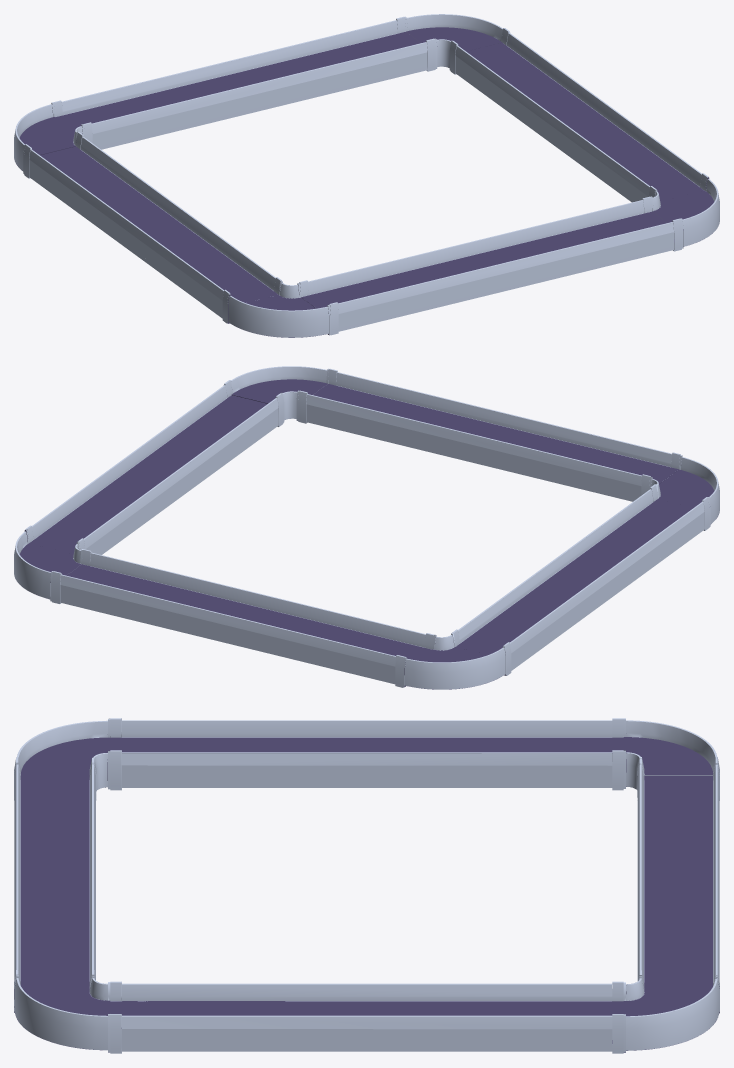
File: conveyor.fbx
3 renders of one model, top to bottom at view 1: azimuth 30°, elevation 25°; view 2: azimuth 150°, elevation 25°; view 3: azimuth 270°, elevation 25°, orthographic. The views are drawn at different scales.
Parts seen in each view (by area): view 1: long conveyor_low.003, long conveyor_low.004, long conveyor_low.002, long conveyor_low.001, turn conveyor_low.002, turn conveyor_low.003, turn conveyor_low.001, turn conveyor_low.004; view 2: long conveyor_low.004, long conveyor_low.003, long conveyor_low.002, long conveyor_low.001, turn conveyor_low.004, turn conveyor_low.001, turn conveyor_low.003, turn conveyor_low.002; view 3: long conveyor_low.001, long conveyor_low.002, long conveyor_low.004, long conveyor_low.003, turn conveyor_low.003, turn conveyor_low.001, turn conveyor_low.004, turn conveyor_low.002.
Part boxes in pixels (left/top/right/bottom): long conveyor_low.003: left=299, top=196, right=681, bottom=335; long conveyor_low.004: left=52, top=16, right=435, bottom=149; long conveyor_low.002: left=24, top=132, right=281, bottom=323; long conveyor_low.001: left=450, top=28, right=707, bottom=202; turn conveyor_low.002: left=227, top=281, right=330, bottom=337; turn conveyor_low.003: left=405, top=14, right=504, bottom=70; turn conveyor_low.001: left=651, top=176, right=719, bottom=248; turn conveyor_low.004: left=14, top=102, right=84, bottom=173; long conveyor_low.004: left=52, top=549, right=434, bottom=687; long conveyor_low.003: left=298, top=368, right=680, bottom=501; long conveyor_low.002: left=452, top=484, right=709, bottom=675; long conveyor_low.001: left=26, top=380, right=283, bottom=554; turn conveyor_low.004: left=403, top=633, right=506, bottom=689; turn conveyor_low.001: left=229, top=366, right=328, bottom=422; turn conveyor_low.003: left=14, top=529, right=82, bottom=601; turn conveyor_low.002: left=649, top=455, right=719, bottom=526; long conveyor_low.001: left=110, top=981, right=623, bottom=1053; long conveyor_low.002: left=110, top=718, right=623, bottom=790; long conveyor_low.004: left=637, top=758, right=719, bottom=998; long conveyor_low.003: left=14, top=757, right=96, bottom=1012; turn conveyor_low.003: left=623, top=975, right=719, bottom=1052; turn conveyor_low.001: left=14, top=975, right=110, bottom=1052; turn conveyor_low.004: left=623, top=718, right=719, bottom=789; turn conveyor_low.002: left=16, top=718, right=110, bottom=791.
Size of the model in its own units: 1372 by 1373 by 82.62.
